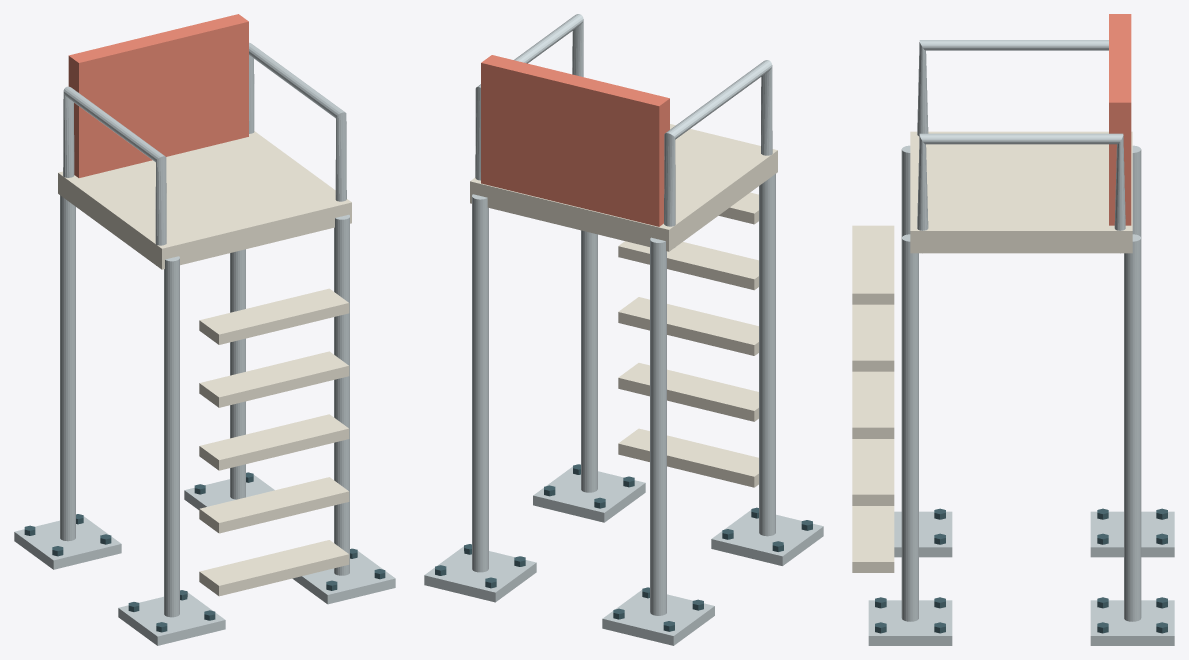
The model's file is waterpark-and-pool-operations-waterpark-and-pool-opera-273730d9__28965.glb.
3 views of the same model, side by side, from view 1: azimuth 30°, elevation 25°; view 2: azimuth 150°, elevation 25°; view 3: azimuth 270°, elevation 25° (orthographic). The views are drawn at different scales.
Parts seen in each view (by area): view 1: waterpark-and-pool-operations-lifeguard-chair; view 2: waterpark-and-pool-operations-lifeguard-chair; view 3: waterpark-and-pool-operations-lifeguard-chair.
Part boxes in pixels (x1,y1,x2,y2): waterpark-and-pool-operations-lifeguard-chair: (14, 14, 395, 645); waterpark-and-pool-operations-lifeguard-chair: (424, 14, 823, 645); waterpark-and-pool-operations-lifeguard-chair: (852, 14, 1174, 645).
Size of the model in its own units: 1.19 by 2.35 by 1.3.
